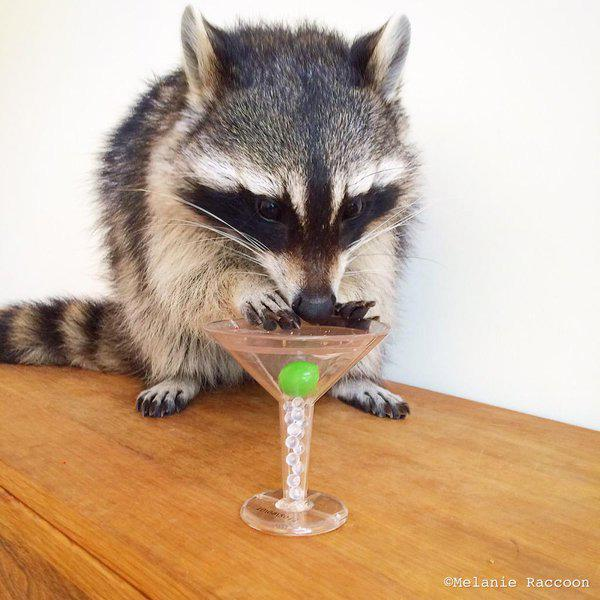raccoon: (0, 1, 448, 431)
